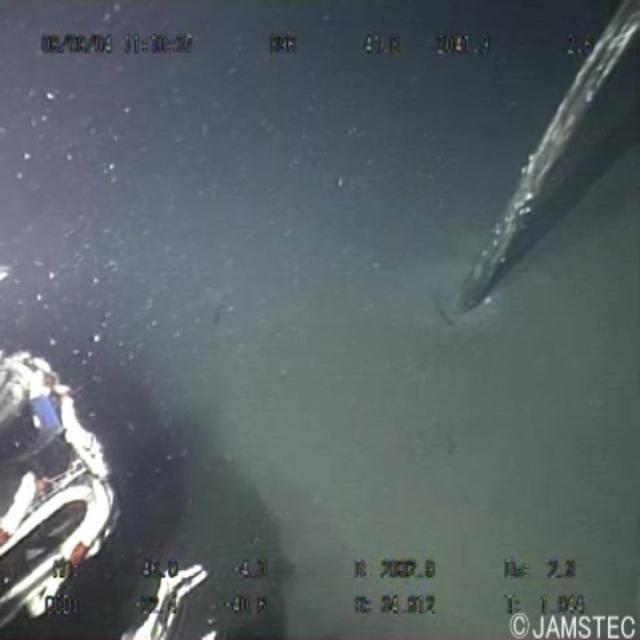Metal: (444, 5, 640, 369)
